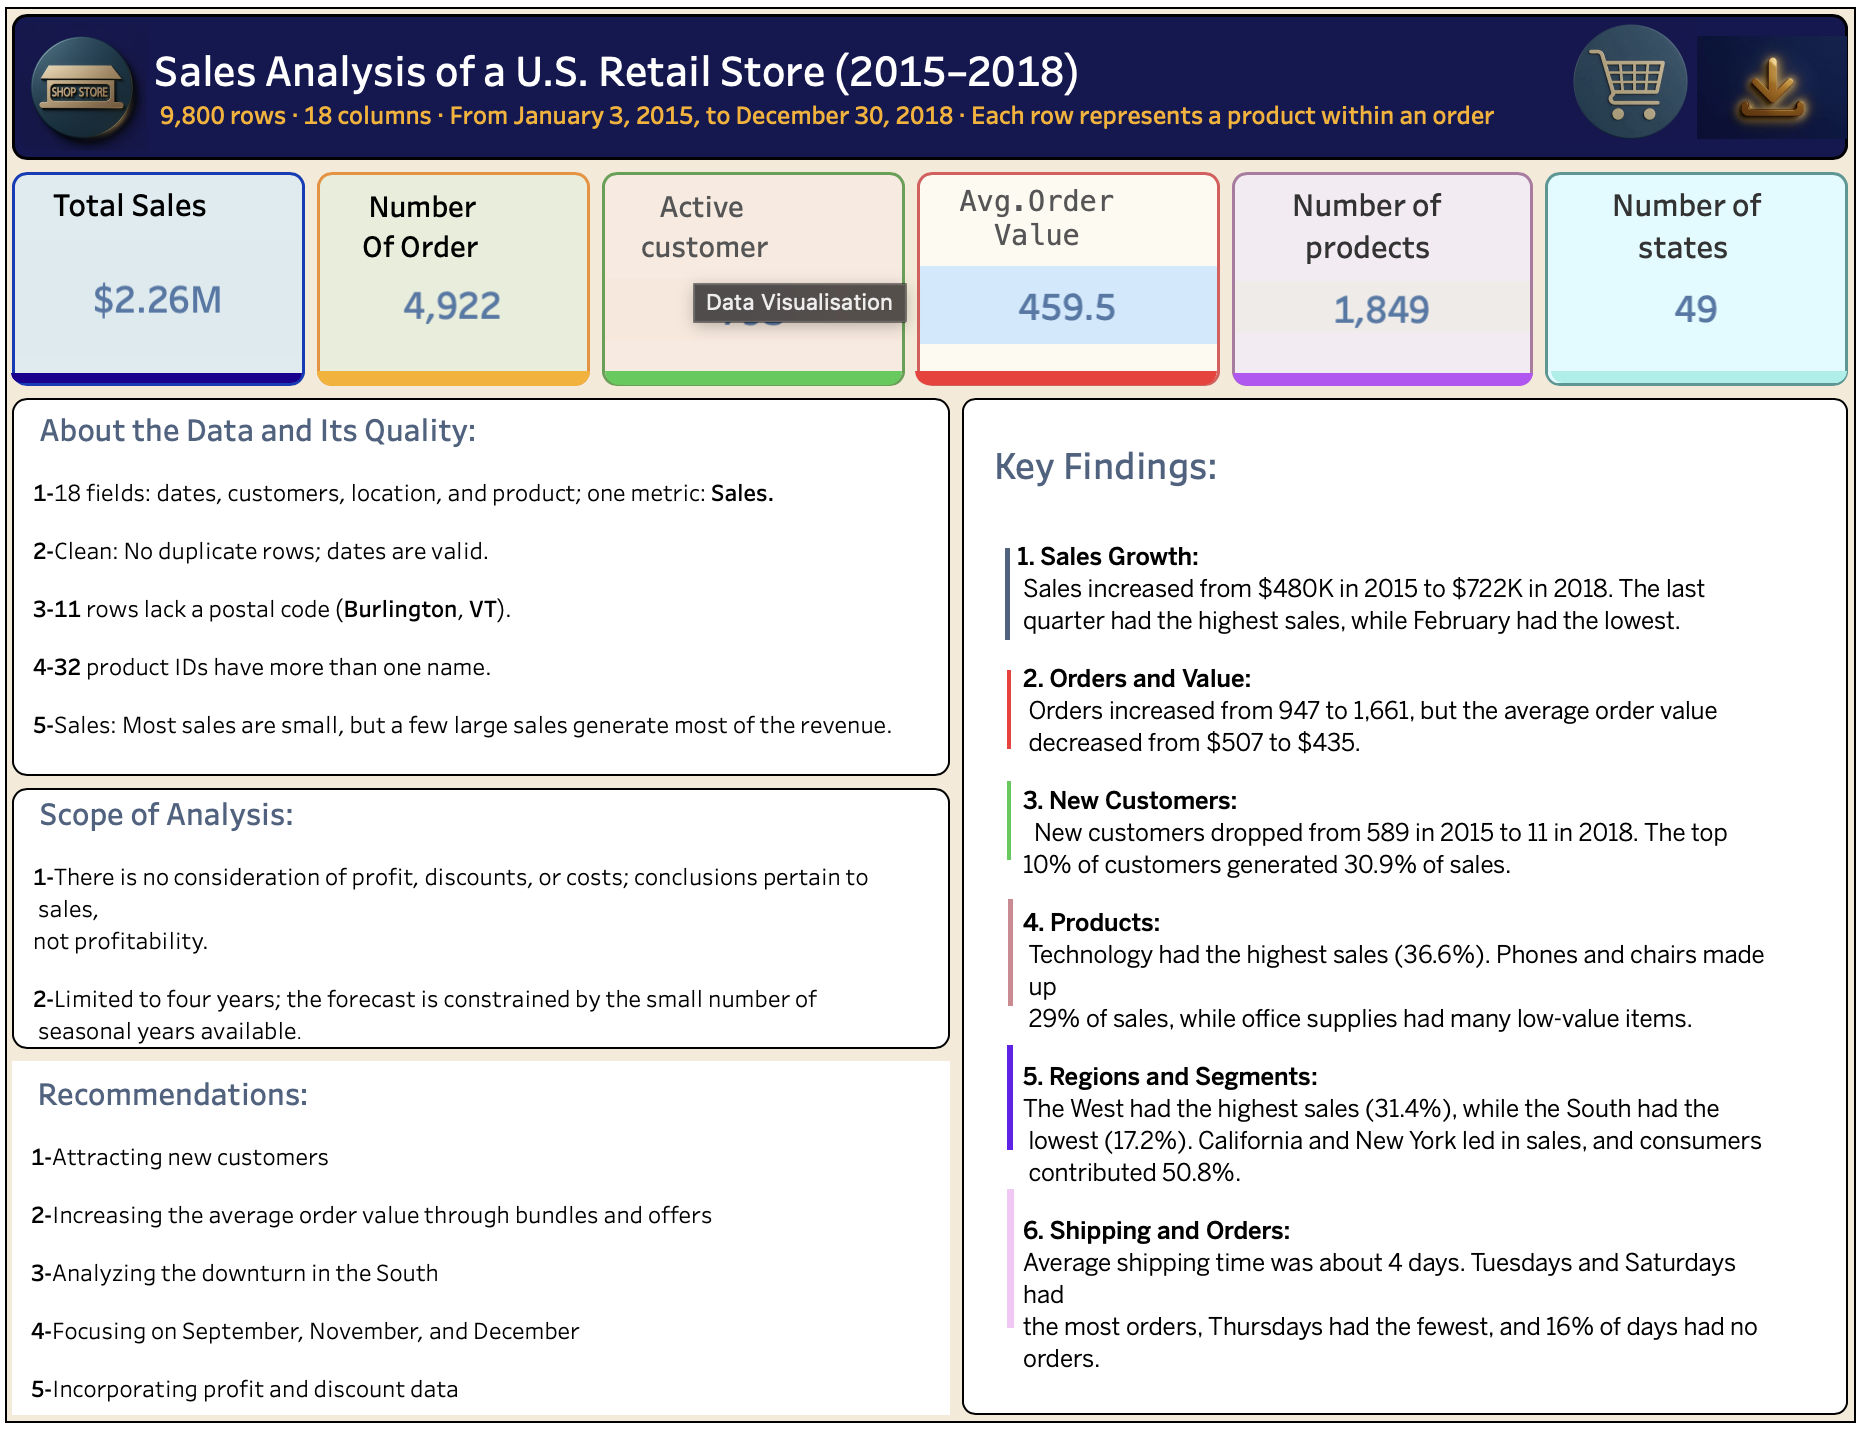

The page's visual inventory and layout, read from the dashboard file:
{"tool":"tableau","page":{"name":"Dashboard 3","canvas":[1000,1000],"units":"permille","ordinal":0},"visuals":[{"type":"text","box":[7.2,9.4,985.6,109.3]},{"type":"image","param":"Image/Gemini_Generated_Image_bh4cr5bh4cr5bh4c.jpg","box":[836.1,16.7,73.3,97.9]},{"type":"dashboard-object","box":[908.6,17.7,80,93.8]},{"type":"image","param":"Image/Gemini_Generated_Image_qrgtz0qrgtz0qrgt.jpg","box":[13.7,18.8,249,89.6]},{"type":"worksheet","title":"total sales","mark":"Automatic","box":[7.2,118.7,162.4,157.4]},{"type":"worksheet","title":"number of order","mark":"Automatic","box":[169.6,118.7,152,157.4]},{"type":"worksheet","title":"Active customers","mark":"Automatic","box":[321.6,118.7,167.8,157.4]},{"type":"worksheet","title":"Average Order Value","mark":"Automatic","box":[489.4,118.7,167.8,157.4]},{"type":"worksheet","title":"Number of products","mark":"Automatic","box":[657.2,118.7,167.8,157.4]},{"type":"worksheet","title":"Number of states","mark":"Automatic","box":[825,118.7,167.8,157.4]},{"type":"blank","box":[172.8,261.5,145.6,10.4]},{"type":"blank","box":[326.4,261.5,158.4,9.4]},{"type":"blank","box":[492.2,261.5,160.2,9.4]},{"type":"blank","box":[831.1,261.5,157.3,8.3]},{"type":"blank","box":[9.9,262.5,154.9,7.3]},{"type":"blank","box":[661.6,262.5,160,9.4]},{"type":"text","box":[7.2,276,506.8,270.8]},{"type":"text","box":[514,276,478.8,714.6]},{"type":"blank","box":[540.2,384.4,2.5,63.5]},{"type":"blank","box":[541,468.8,2.5,55.2]},{"type":"blank","box":[541,545.8,2.5,55.2]},{"type":"text","box":[7.2,546.9,506.8,189.1]},{"type":"blank","box":[541.9,628.1,2.5,74]},{"type":"blank","box":[541,729.2,3.3,72.9]},{"type":"text","box":[7.2,736,506.8,254.7]},{"type":"blank","box":[541,829.2,4.1,96.9]}]}

Visuals, with their boxes on the dashboard's canvas, which has no fixed pixel size, in thousandths of its width and height (x1, y1, x2, y2). These are canvas units, not pixel positions in the 1860x1430 screenshot, which may show the page scaled, cropped or inside an application window:
text: [7,9,993,119]
image: [836,17,909,115]
dashboard-object: [909,18,989,112]
image: [14,19,263,108]
"total sales" worksheet: [7,119,170,276]
"number of order" worksheet: [170,119,322,276]
"Active customers" worksheet: [322,119,489,276]
"Average Order Value" worksheet: [489,119,657,276]
"Number of products" worksheet: [657,119,825,276]
"Number of states" worksheet: [825,119,993,276]
blank: [173,262,318,272]
blank: [326,262,485,271]
blank: [492,262,652,271]
blank: [831,262,988,270]
blank: [10,262,165,270]
blank: [662,262,822,272]
text: [7,276,514,547]
text: [514,276,993,991]
blank: [540,384,543,448]
blank: [541,469,544,524]
blank: [541,546,544,601]
text: [7,547,514,736]
blank: [542,628,544,702]
blank: [541,729,544,802]
text: [7,736,514,991]
blank: [541,829,545,926]
